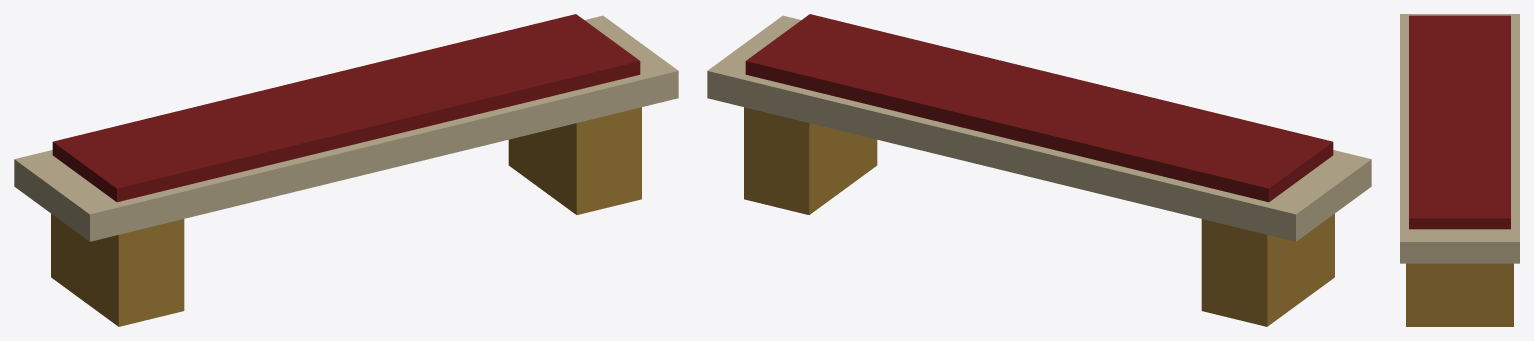
File: palace_f_bench_long.glb
The picture shows the model from 3 angles, left to right: view 1: azimuth 30°, elevation 25°; view 2: azimuth 150°, elevation 25°; view 3: azimuth 270°, elevation 25°; orthographic projection. The views are drawn at different scales.
Parts seen in each view (by area): view 1: sw5e_int_palace_f_bench_long; view 2: sw5e_int_palace_f_bench_long; view 3: sw5e_int_palace_f_bench_long.
Boxes of the visible parts, x1=… form: sw5e_int_palace_f_bench_long: x1=14, y1=14, x2=678, y2=326; sw5e_int_palace_f_bench_long: x1=707, y1=14, x2=1371, y2=326; sw5e_int_palace_f_bench_long: x1=1400, y1=14, x2=1519, y2=326.
Size of the model in its own units: 1.8 by 0.4 by 0.4.
